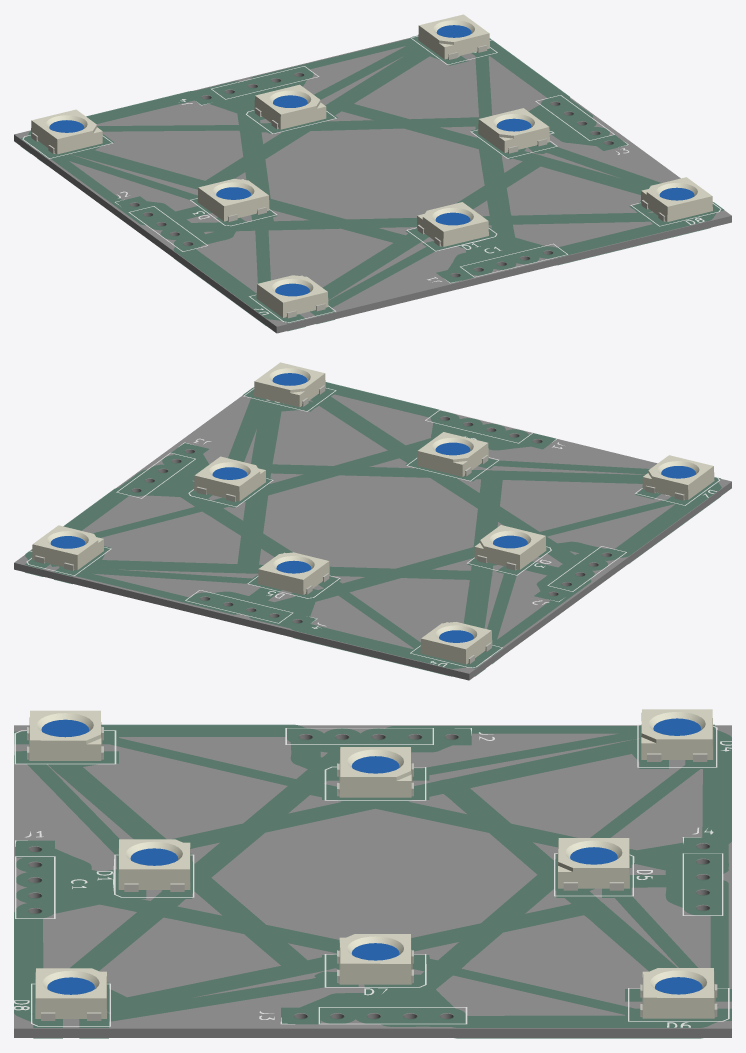
The picture shows the model from 3 angles, top to bottom: view 1: azimuth 30°, elevation 25°; view 2: azimuth 150°, elevation 25°; view 3: azimuth 270°, elevation 25°; orthographic projection. The views are drawn at different scales.
Visible parts, largest first — view 1: =>[0:1:1:5], =>[0:1:1:4], =>[0:1:1:3], D6, D7, D5, D4, D2, D8, D1, D3; view 2: =>[0:1:1:5], =>[0:1:1:4], =>[0:1:1:3], D8, D1, D2, D3, D6, D5, D7, D4; view 3: =>[0:1:1:5], =>[0:1:1:4], =>[0:1:1:3], D3, D6, D2, D7, D4, D1, D5, D8.
Boxes of the visible parts, x1=… form: =>[0:1:1:5]: x1=14, y1=37, x2=731, y2=333; =>[0:1:1:4]: x1=20, y1=35, x2=724, y2=331; =>[0:1:1:3]: x1=22, y1=36, x2=721, y2=322; D6: x1=418, y1=14, x2=489, y2=59; D7: x1=478, y1=108, x2=549, y2=153; D5: x1=254, y1=84, x2=326, y2=129; D4: x1=31, y1=109, x2=102, y2=154; D2: x1=256, y1=275, x2=328, y2=318; D8: x1=641, y1=177, x2=712, y2=221; D1: x1=417, y1=202, x2=488, y2=246; D3: x1=197, y1=178, x2=269, y2=221; =>[0:1:1:5]: x1=14, y1=383, x2=731, y2=680; =>[0:1:1:4]: x1=25, y1=382, x2=721, y2=676; =>[0:1:1:3]: x1=26, y1=388, x2=719, y2=667; D8: x1=254, y1=362, x2=325, y2=407; D1: x1=417, y1=432, x2=488, y2=476; D2: x1=642, y1=455, x2=714, y2=500; D3: x1=474, y1=525, x2=546, y2=570; D6: x1=32, y1=525, x2=103, y2=570; D5: x1=258, y1=552, x2=329, y2=594; D7: x1=194, y1=456, x2=265, y2=501; D4: x1=420, y1=622, x2=492, y2=664; =>[0:1:1:5]: x1=14, y1=725, x2=731, y2=1037; =>[0:1:1:4]: x1=14, y1=724, x2=731, y2=1038; =>[0:1:1:3]: x1=14, y1=724, x2=731, y2=1027; D3: x1=337, y1=747, x2=413, y2=797; D6: x1=640, y1=968, x2=717, y2=1018; D2: x1=27, y1=710, x2=103, y2=760; D7: x1=337, y1=934, x2=413, y2=984; D4: x1=641, y1=709, x2=713, y2=761; D1: x1=118, y1=839, x2=190, y2=891; D5: x1=558, y1=838, x2=629, y2=890; D8: x1=35, y1=968, x2=106, y2=1020.
Size of the model in its own units: 0.05 by 0.00257 by 0.05.
